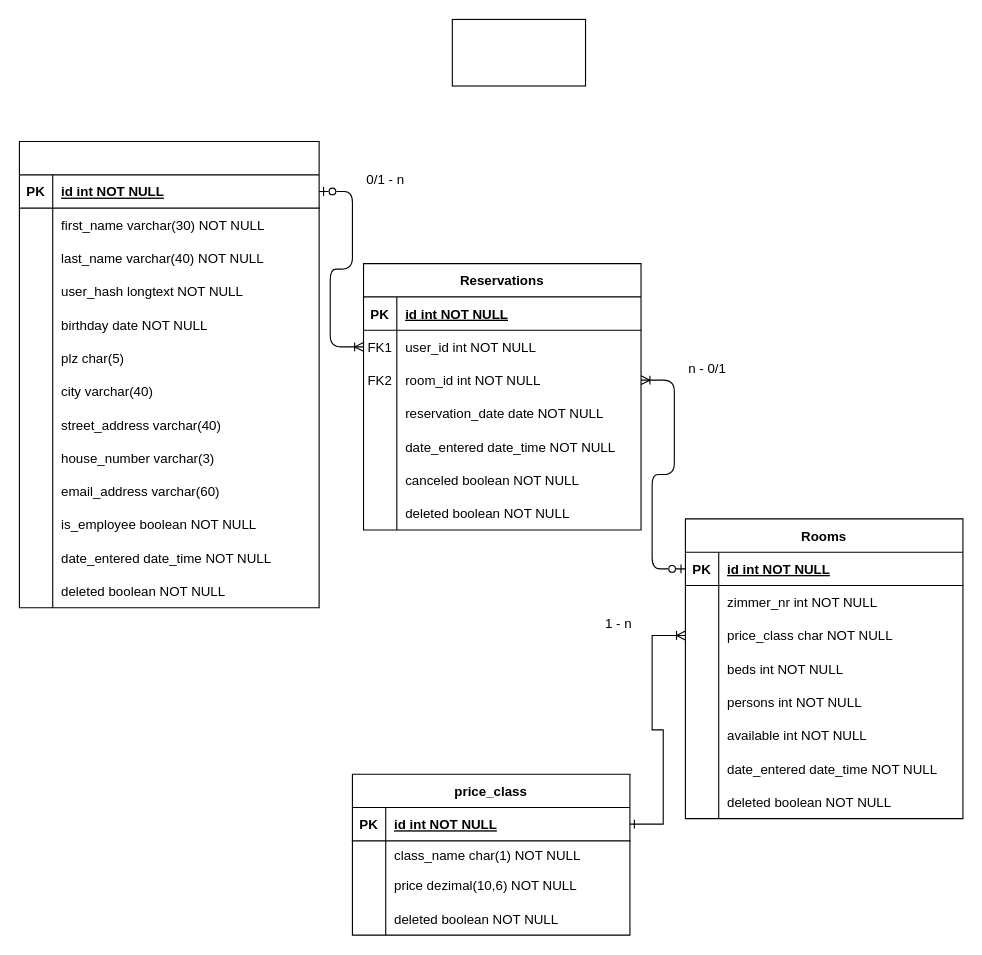
This 982x955 diagram has some shape labels left out. The shapes that lost their labels are listed below. From the top down, each one's box as (x1, y1, x2, y2) in pixels, then its label:
(451, 18, 586, 86): ERM
(18, 140, 319, 608): Users
